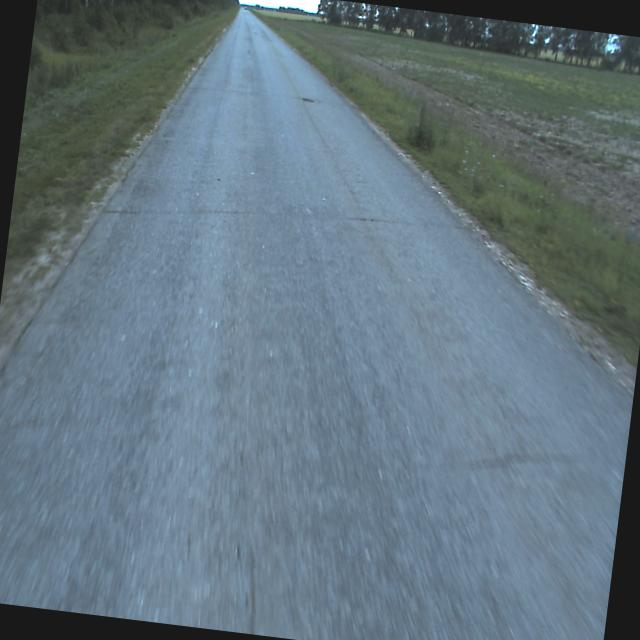road: (0, 6, 633, 640)
